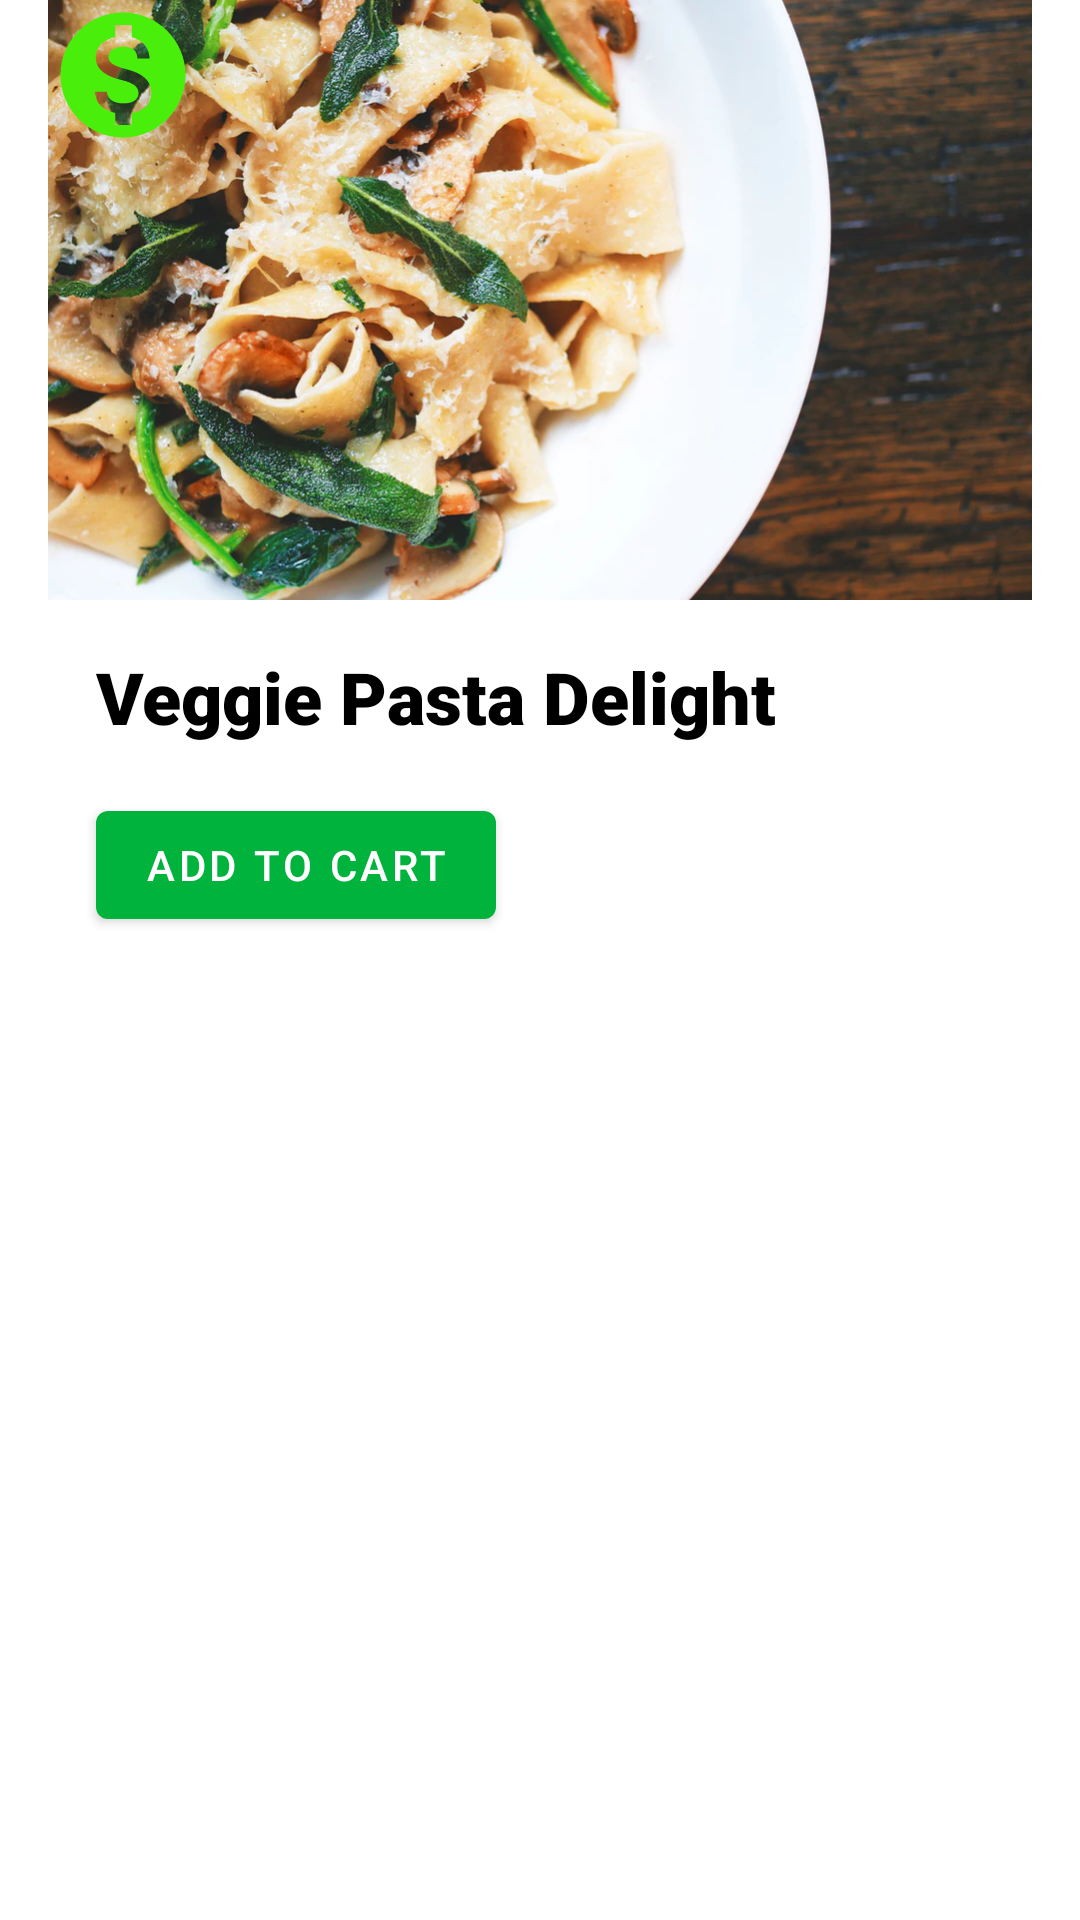

Screen size 1080 × 1920. Icon name, then its center in pixels as point (x, y):
monetization on: point (123, 75)
